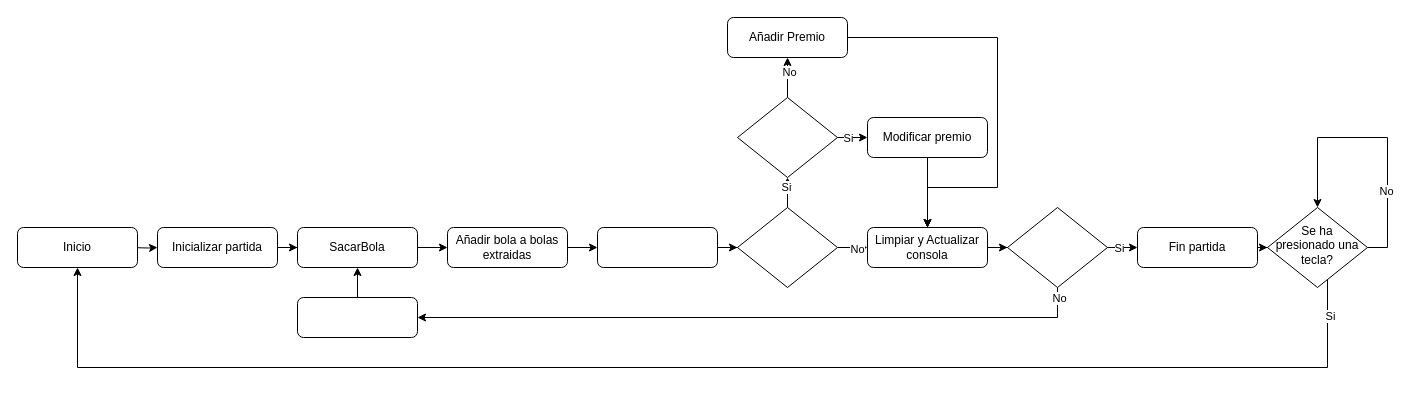
Image size: 1413x393. Some labels were removed from this diagram. The centre of each missing label's shape, as x and y in pixels:
"Comprobar Cartones" goes at point 657,247.
"Delay 150ms" goes at point 357,317.
"Hay Patron?" goes at point 787,247.
"Se anula con otro?" goes at point 787,137.
"Se han sacado 30 bolas?" goes at point 1057,247.
